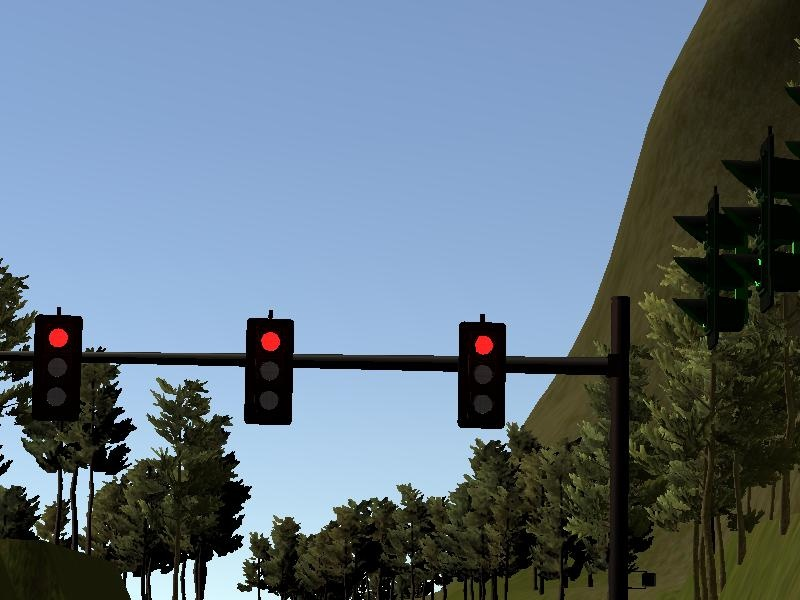red: (239, 312, 298, 433), (33, 309, 85, 427), (455, 313, 506, 433)
